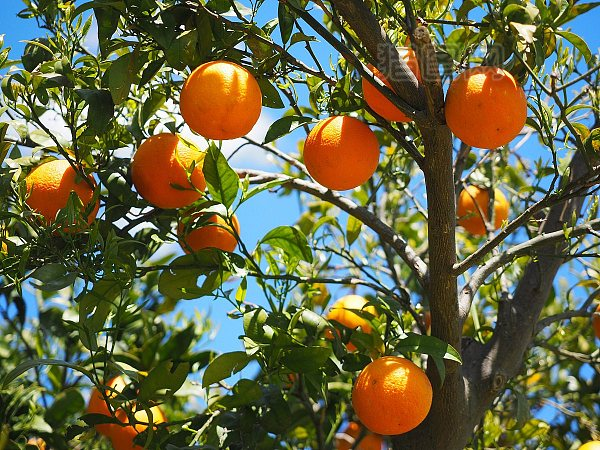orange: (349, 356, 433, 437), (445, 67, 527, 148), (180, 61, 262, 141), (361, 43, 441, 121), (132, 133, 215, 208), (17, 158, 101, 230), (301, 114, 380, 190), (176, 201, 240, 256), (325, 293, 382, 354), (457, 182, 509, 235)
